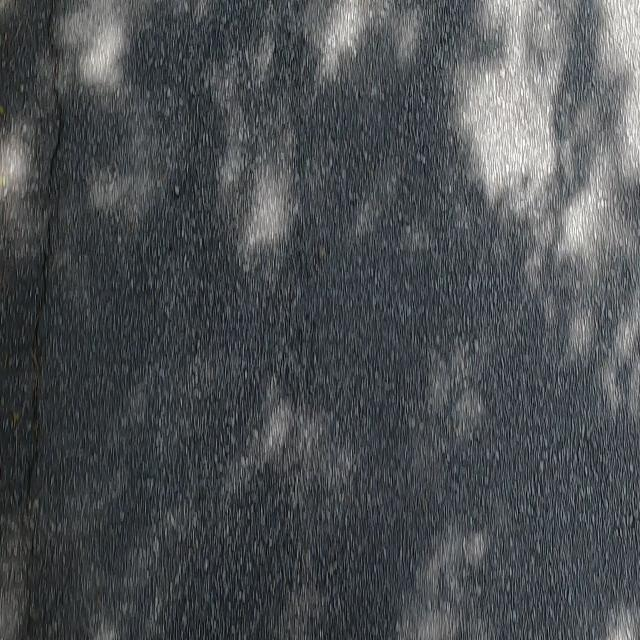Retak-Memanjang: (16, 0, 70, 544)
